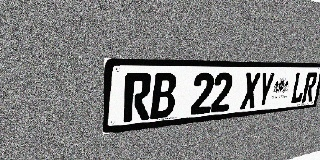2: (191, 73, 215, 115), (211, 73, 233, 113)
B: (150, 73, 177, 119)
L: (290, 72, 307, 104)
R: (123, 73, 152, 122), (301, 72, 318, 103)
X: (240, 72, 261, 109)
Y: (256, 72, 275, 108)
